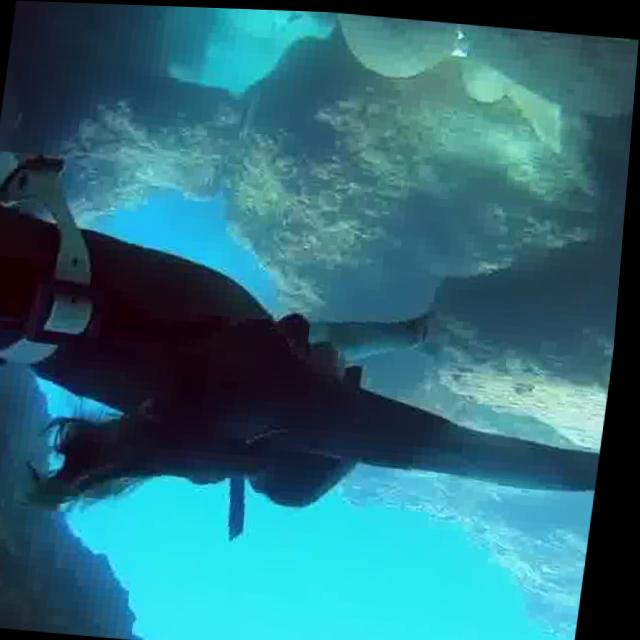human: (0, 77, 635, 587)
